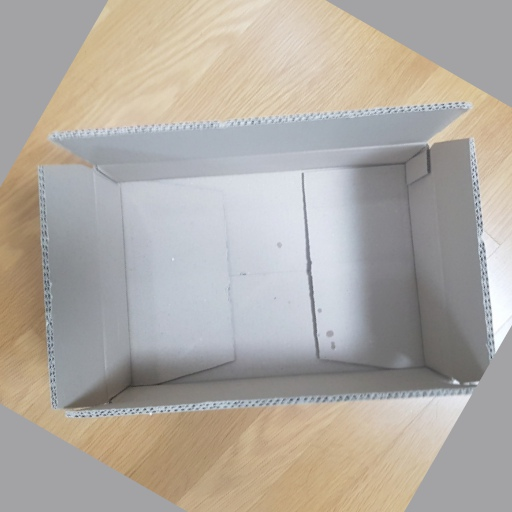Paper_0: (30, 98, 499, 421)
